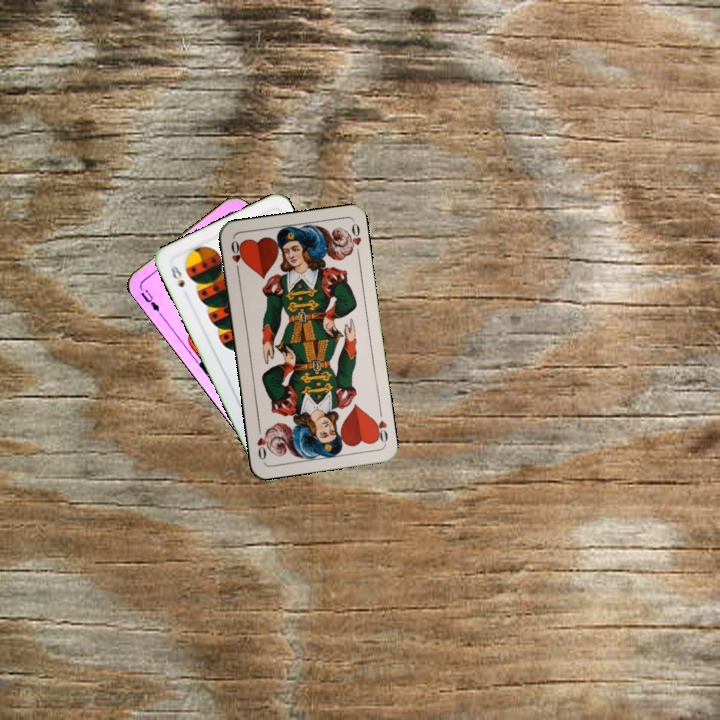EU: (136, 283, 164, 318)
HO: (369, 406, 390, 446), (227, 236, 245, 276)
S8: (166, 262, 187, 290)
